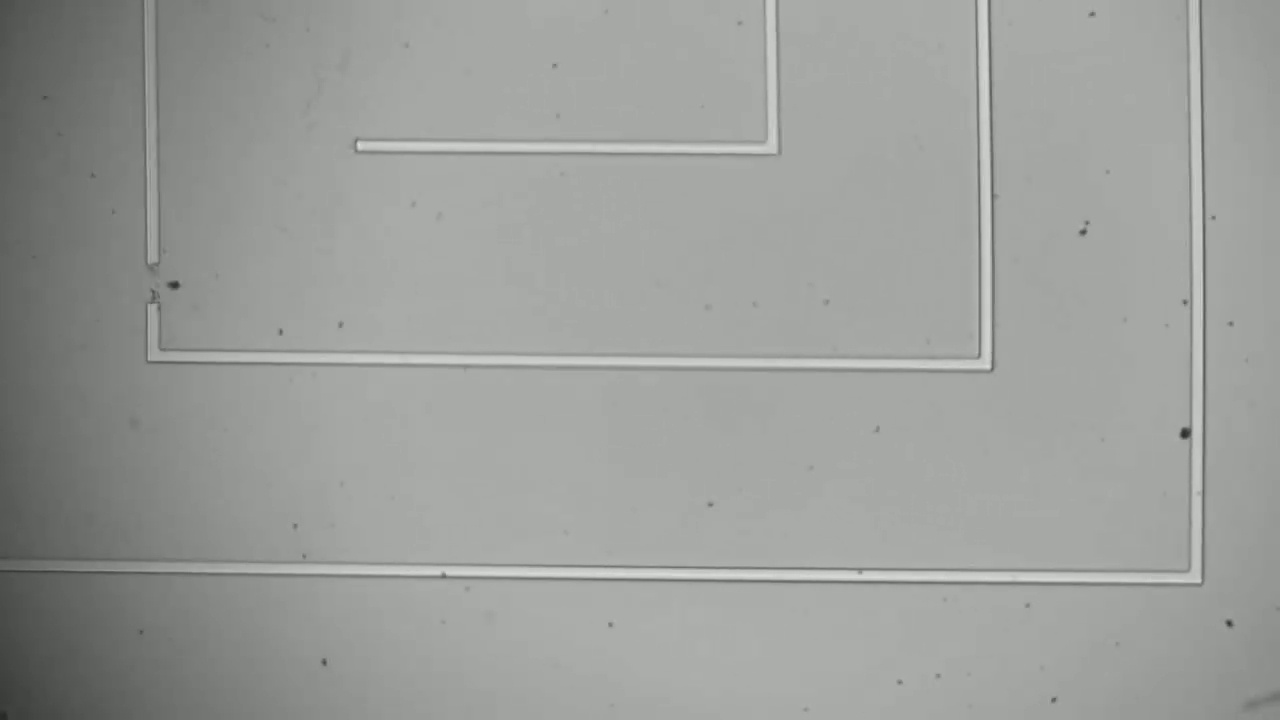open: (129, 245, 179, 337)
